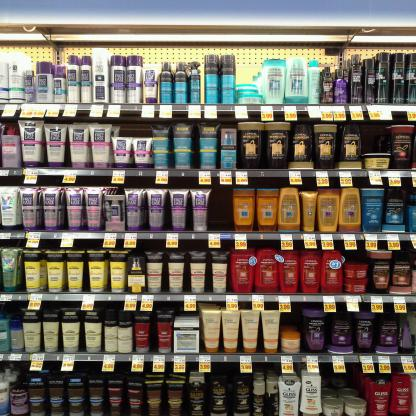Void: (364, 125, 387, 152), (216, 189, 230, 229), (324, 372, 358, 386), (120, 124, 150, 137), (244, 55, 256, 84), (284, 314, 297, 326)
